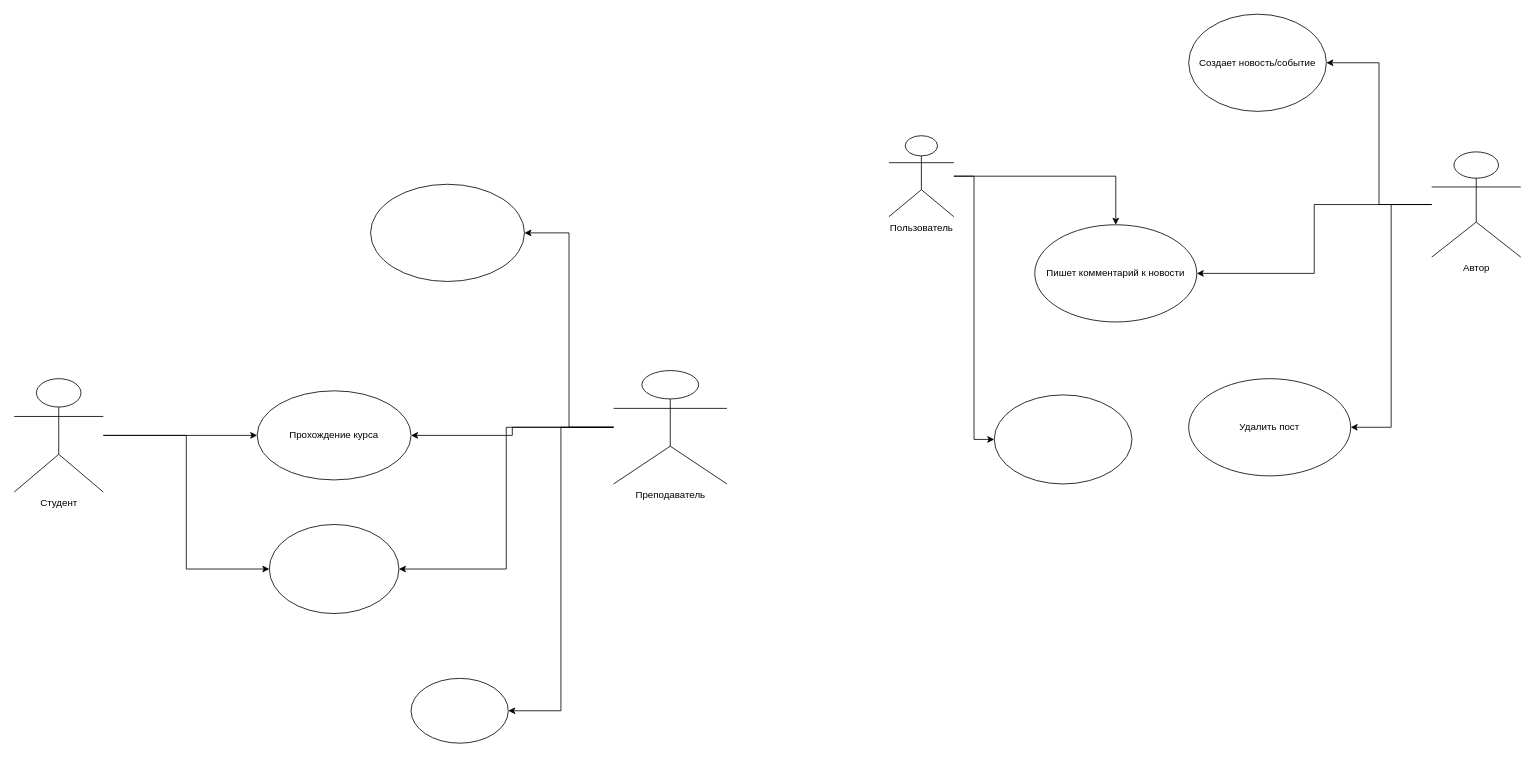
The diagram is 1535 pixels wide and 757 high, and some of its shapes have lost their labels. Here are the shapes that lost their labels. From the top down, the box of each, then its label:
(370, 183, 524, 281): Создание курса
(993, 394, 1132, 484): Пожаловаться на пост
(269, 524, 399, 614): Прохождение тестирования
(410, 678, 508, 743): Контроль результатов
